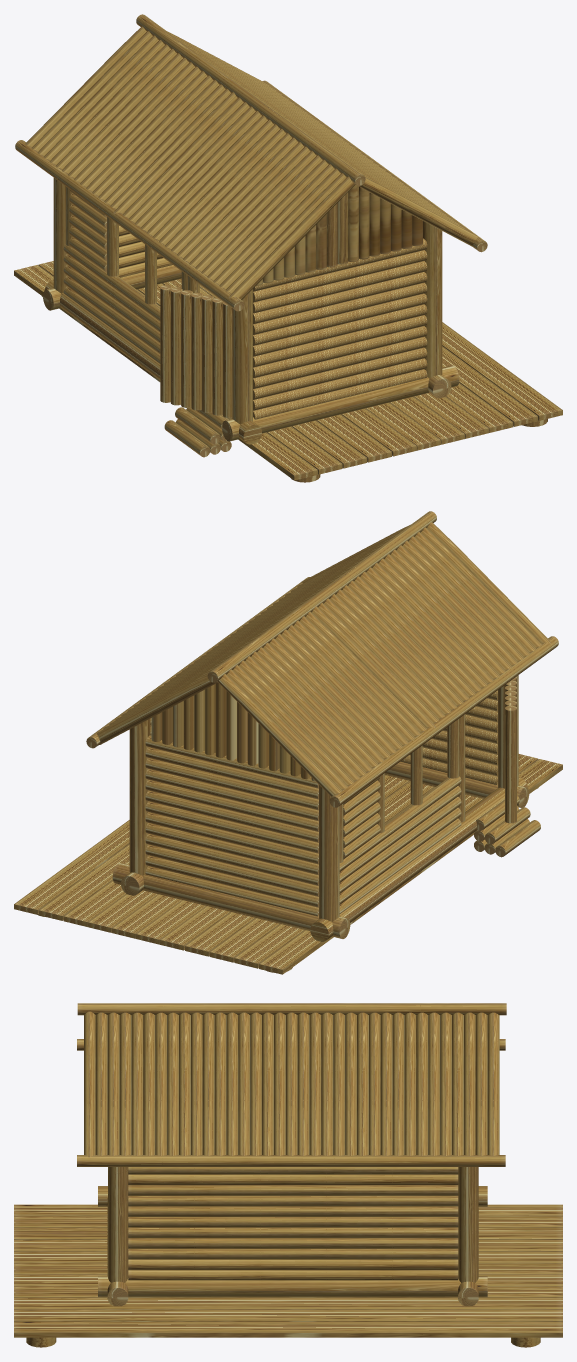
The model's file is mood_house.FBX.
3 views of the same model, one above another, from view 1: azimuth 30°, elevation 25°; view 2: azimuth 150°, elevation 25°; view 3: azimuth 270°, elevation 25° (orthographic). The views are drawn at different scales.
Parts seen in each view (by area): view 1: Cylinder83, Cylinder08, Cylinder01, Box007, Cylinder77, Cylinder78, Box011, Cylinder81, Box006, Cylinder05, Cylinder154, Cylinder155 (+79 smaller); view 2: Cylinder82, Cylinder81, Cylinder08, Cylinder01, Cylinder76, Box007, Cylinder75, Box011, Box008, Cylinder03, Cylinder117, Cylinder111 (+78 smaller); view 3: Box007, Box006, Cylinder80, Box005, Cylinder79, Cylinder08, Cylinder94, Cylinder97, Cylinder106, Cylinder95, Cylinder96, Cylinder103 (+52 smaller).
Part boxes in pixels (<box>): Cylinder83: <box>222,365,459,441</box>; Cylinder08: <box>136,14,365,185</box>; Cylinder01: <box>15,140,244,311</box>; Box007: <box>442,322,562,420</box>; Cylinder77: <box>423,221,442,378</box>; Cylinder78: <box>232,289,252,424</box>; Box011: <box>14,265,317,480</box>; Cylinder81: <box>44,279,261,444</box>; Box006: <box>442,346,537,426</box>; Cylinder05: <box>228,176,355,299</box>; Cylinder154: <box>253,261,427,313</box>; Cylinder155: <box>253,272,427,324</box>; Cylinder82: <box>112,863,350,938</box>; Cylinder81: <box>310,777,527,941</box>; Cylinder08: <box>207,511,436,682</box>; Cylinder01: <box>329,636,558,807</box>; Cylinder76: <box>129,718,150,875</box>; Box007: <box>14,820,129,914</box>; Cylinder75: <box>319,785,339,921</box>; Box011: <box>259,759,562,974</box>; Box008: <box>185,781,434,956</box>; Cylinder03: <box>217,674,341,796</box>; Cylinder117: <box>145,758,318,810</box>; Cylinder111: <box>145,823,318,875</box>; Box007: <box>14,1321,562,1337</box>; Box006: <box>14,1309,562,1321</box>; Cylinder80: <box>98,1276,487,1297</box>; Box005: <box>14,1298,562,1309</box>; Cylinder79: <box>77,1155,505,1166</box>; Cylinder08: <box>77,1003,506,1015</box>; Cylinder94: <box>128,1259,458,1270</box>; Cylinder97: <box>128,1227,458,1238</box>; Cylinder106: <box>128,1174,458,1185</box>; Cylinder95: <box>128,1249,458,1259</box>; Cylinder96: <box>128,1238,458,1248</box>; Cylinder103: <box>128,1217,458,1227</box>.
Size of the model in its own units: 5184 by 4278 by 8071.
